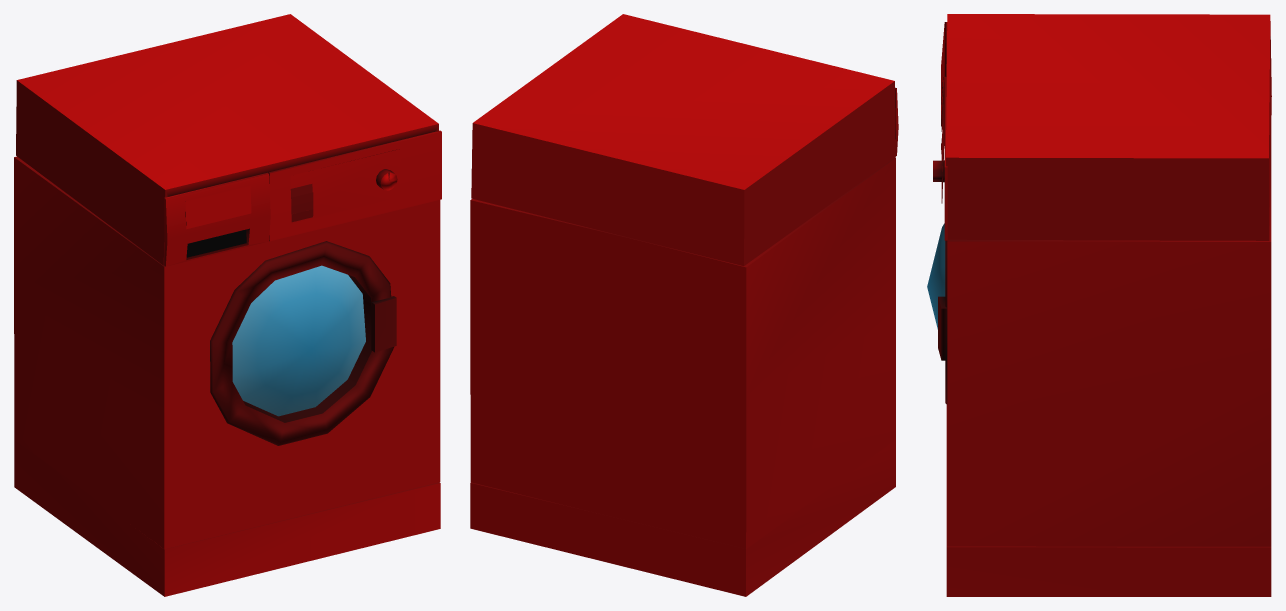
File: WashingMachine.glb
3 views of the same model, side by side, from view 1: azimuth 30°, elevation 25°; view 2: azimuth 150°, elevation 25°; view 3: azimuth 270°, elevation 25° (orthographic). The views are drawn at different scales.
Parts seen in each view (by area): view 1: WashingMachine; view 2: WashingMachine; view 3: WashingMachine.
Part boxes in pixels (bbox=[...]): WashingMachine: bbox=[14, 14, 441, 596]; WashingMachine: bbox=[470, 14, 898, 596]; WashingMachine: bbox=[927, 14, 1271, 596].
Size of the model in its own units: 3.63 by 5.1 by 3.63.
